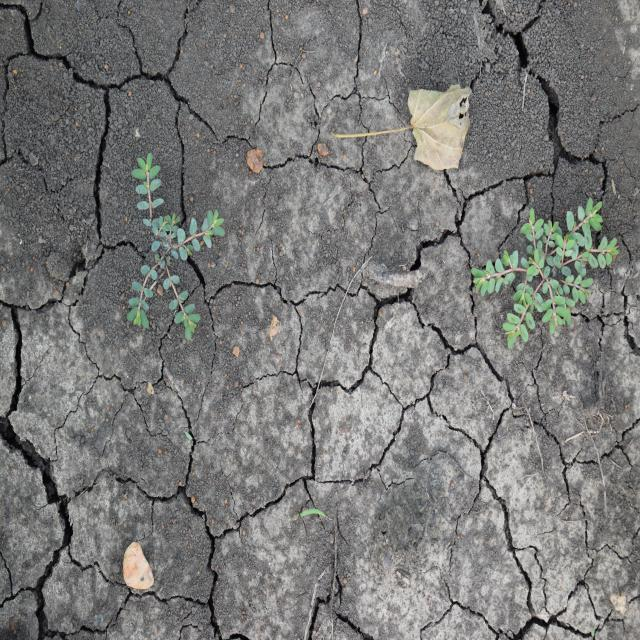SpottedSpurge: (470, 196, 621, 351), (126, 151, 227, 343)
